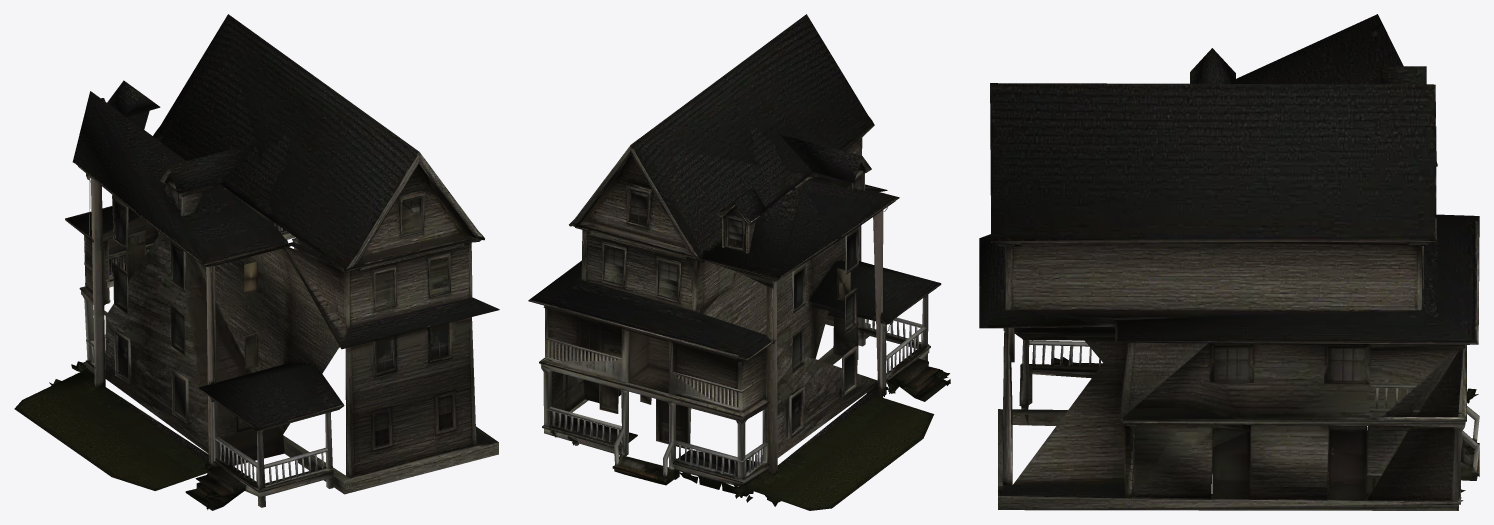
The model's file is triple_decker.glb.
The picture shows the model from 3 angles, left to right: view 1: azimuth 30°, elevation 25°; view 2: azimuth 150°, elevation 25°; view 3: azimuth 270°, elevation 25°; orthographic projection. The views are drawn at different scales.
Visible parts, largest first — view 1: triple_decker; view 2: triple_decker; view 3: triple_decker.
Boxes of the visible parts, x1,y1,x2,y2 form: triple_decker: (14,14,499,510); triple_decker: (528,14,950,510); triple_decker: (979,14,1479,510).
Bounding box in the file's own units: 9.3 × 10 × 11.18.
1 material, 1 textured.
